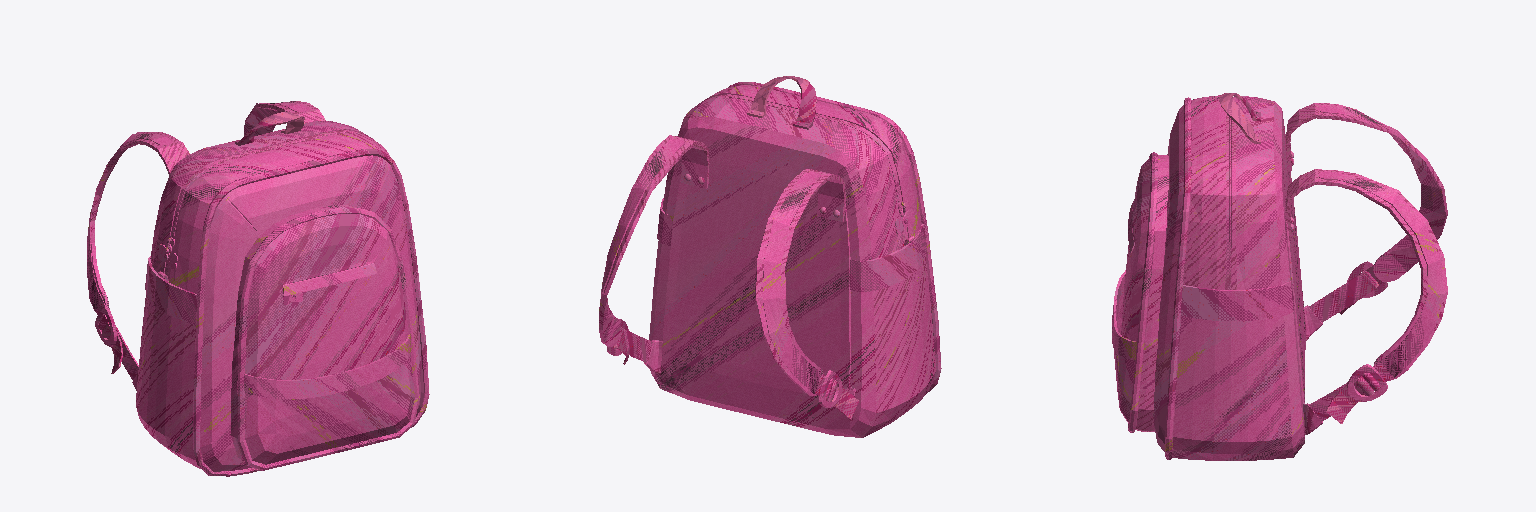
3 views of the same model, side by side, from view 1: azimuth 30°, elevation 25°; view 2: azimuth 150°, elevation 25°; view 3: azimuth 270°, elevation 25° (orthographic).
Visible parts, largest first — view 1: shader7; view 2: shader7; view 3: shader7.
Part boxes in pixels (x1,y1,x2,y2): shader7: (87,101,429,476); shader7: (599,76,941,437); shader7: (1112,93,1447,460).
Size of the model in its own units: 3.22 by 3.94 by 3.73.
Materials: 1 (1 with a texture image).